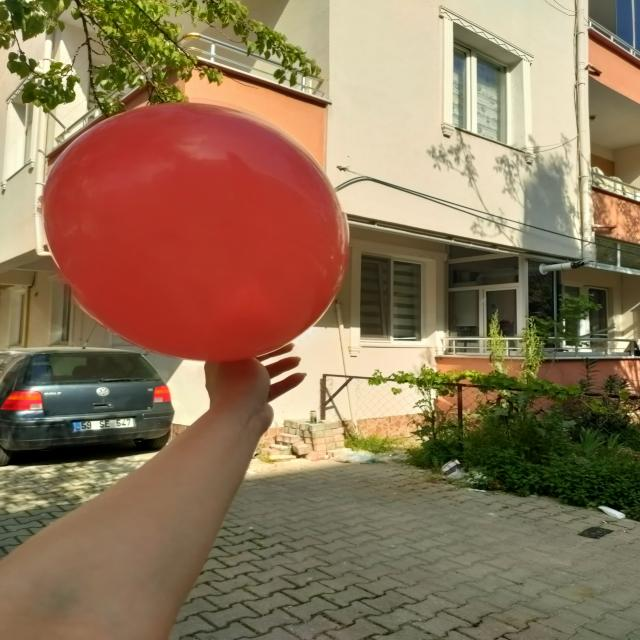red: (45, 102, 352, 363)
